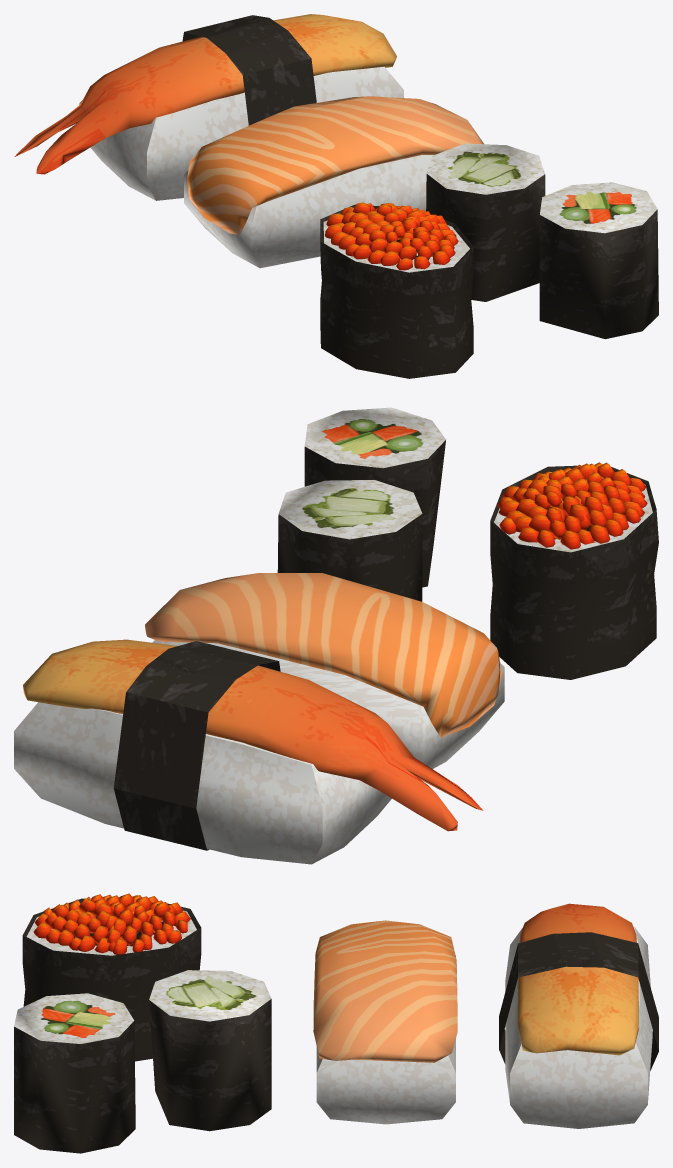
File: sushi.fbx
3 views of the same model, one above another, from view 1: azimuth 30°, elevation 25°; view 2: azimuth 150°, elevation 25°; view 3: azimuth 270°, elevation 25° (orthographic). The views are drawn at different scales.
Parts seen in each view (by area): view 1: salmon, shrimp, roe, veggie, cucumber, laver; view 2: shrimp, salmon, roe, laver, cucumber, veggie; view 3: salmon, shrimp, veggie, cucumber, roe, laver.
Boxes of the visible parts, bbox=[...] form: salmon: bbox=[184, 96, 483, 268]; shrimp: bbox=[14, 14, 403, 200]; roe: bbox=[320, 204, 473, 378]; veggie: bbox=[539, 182, 658, 339]; cucumber: bbox=[426, 143, 545, 301]; laver: bbox=[182, 15, 316, 125]; shrimp: bbox=[14, 639, 483, 864]; salmon: bbox=[145, 573, 504, 768]; roe: bbox=[490, 465, 658, 679]; laver: bbox=[113, 641, 280, 850]; cucumber: bbox=[277, 480, 422, 601]; veggie: bbox=[304, 407, 445, 587]; salmon: bbox=[313, 920, 457, 1124]; shrimp: bbox=[505, 903, 652, 1128]; veggie: bbox=[14, 993, 135, 1153]; cucumber: bbox=[149, 970, 271, 1131]; roe: bbox=[22, 898, 201, 1061]; laver: bbox=[499, 932, 658, 1070].
Bounding box in the file's own units: 26.35 × 9.06 × 38.03.
6 materials, 6 textured.
